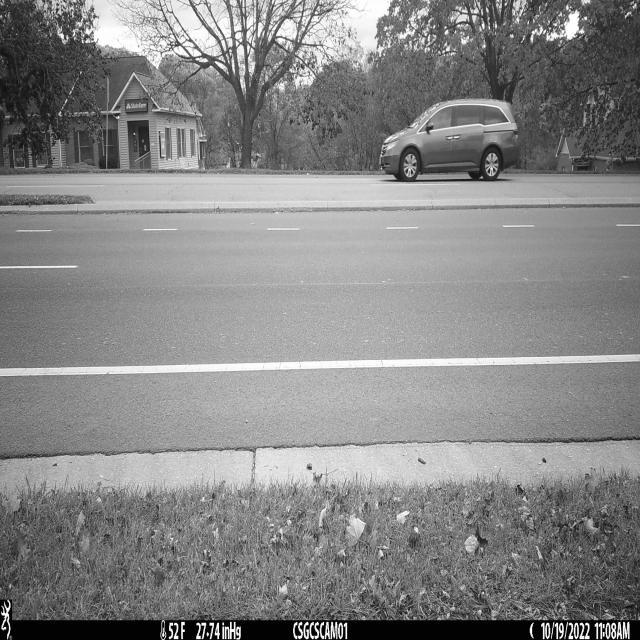Van: (379, 96, 520, 182)
